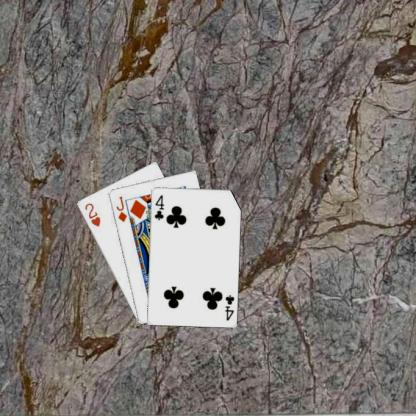2H: (82, 200, 101, 228)
4C: (222, 292, 235, 322), (152, 192, 165, 221)
JD: (114, 194, 128, 224)
